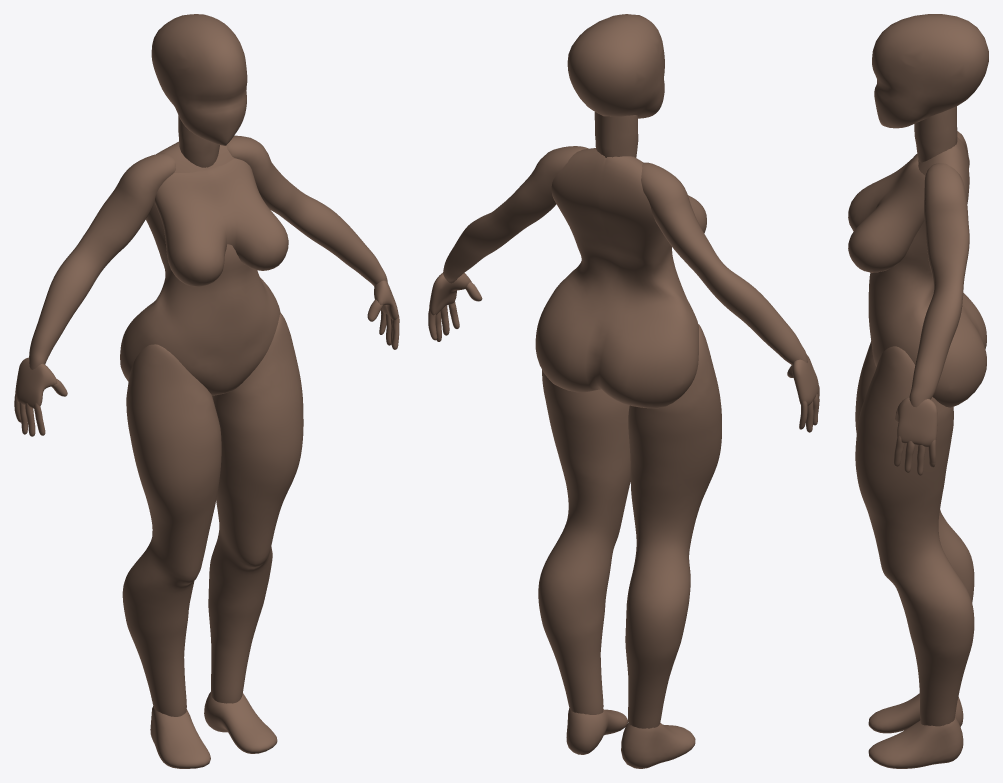
The model's file is curvy-dark.glb.
3 views of the same model, side by side, from view 1: azimuth 30°, elevation 25°; view 2: azimuth 150°, elevation 25°; view 3: azimuth 270°, elevation 25° (orthographic).
Visible parts, largest first — view 1: FEMALE BODY TYPE 4_FEMALE BODY TYPE 4_0; view 2: FEMALE BODY TYPE 4_FEMALE BODY TYPE 4_0; view 3: FEMALE BODY TYPE 4_FEMALE BODY TYPE 4_0.
Boxes of the visible parts, x1=… form: FEMALE BODY TYPE 4_FEMALE BODY TYPE 4_0: x1=14, y1=14, x2=399, y2=768; FEMALE BODY TYPE 4_FEMALE BODY TYPE 4_0: x1=428, y1=14, x2=819, y2=768; FEMALE BODY TYPE 4_FEMALE BODY TYPE 4_0: x1=848, y1=14, x2=988, y2=768.
Bounding box in the file's own units: 0.8975 × 1.66 × 0.29.
